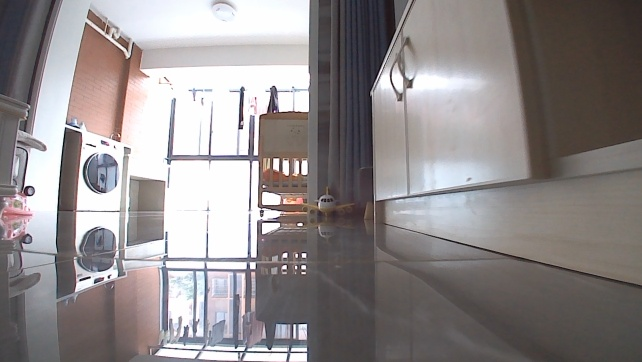TV_stand1: (367, 0, 641, 287)
plastic_toy: (300, 185, 355, 218)
washing_machine: (55, 130, 127, 214)
